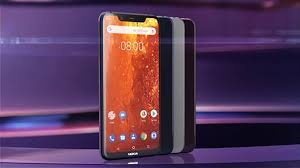nokia: (100, 11, 195, 158)
